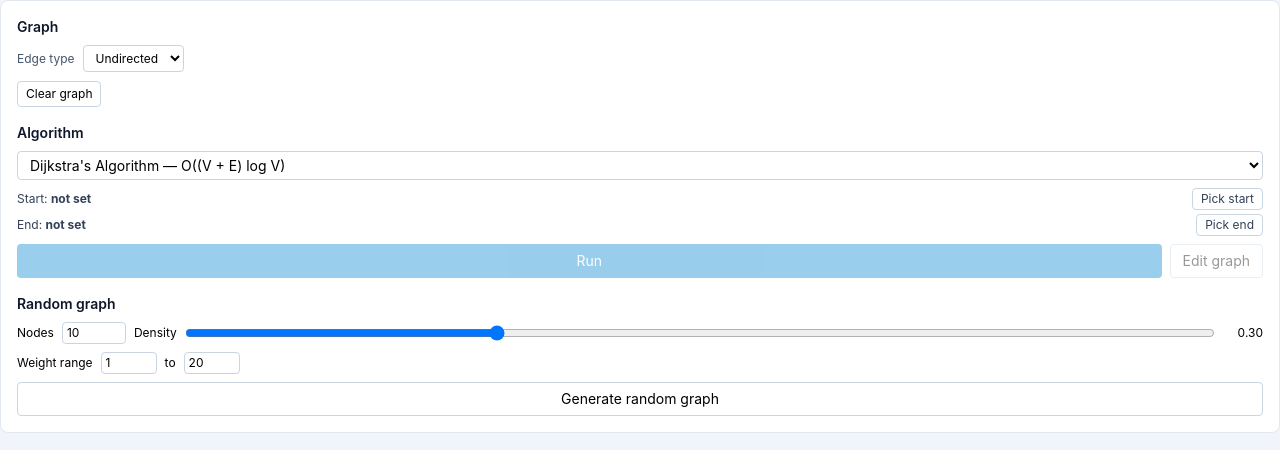
Test: ControlPanel › enables Run for kruskal with no start/end selection needed
The width and height of the screenshot is (1280, 450).
Select "Kruskal's Algorithm — O(E log E)" in the dropdown named "Algorithm". click: {"x": 640, "y": 166}
box: [17, 151, 1263, 180]
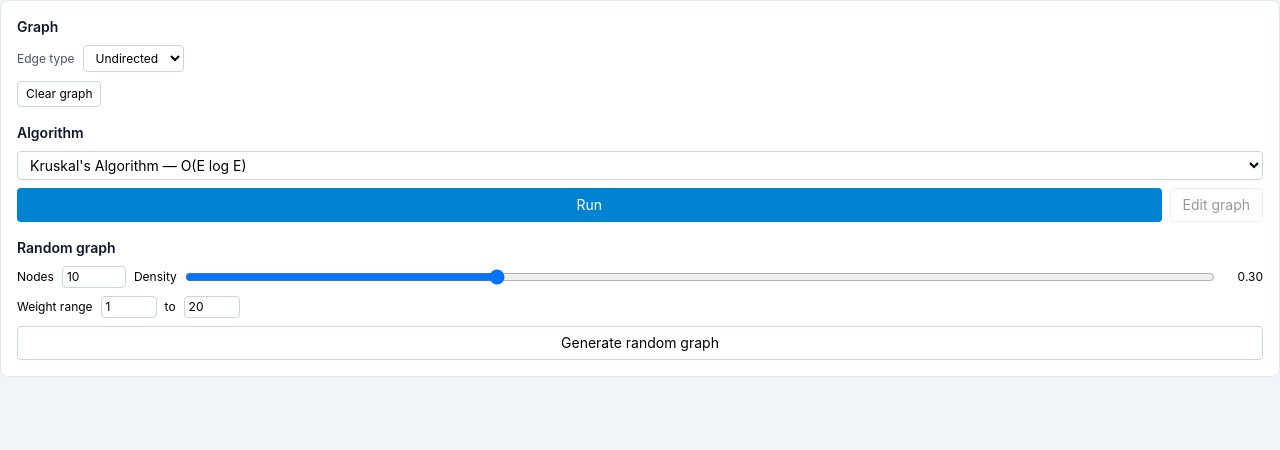
Now the button "Run" is enabled, box [17, 188, 1162, 222]
